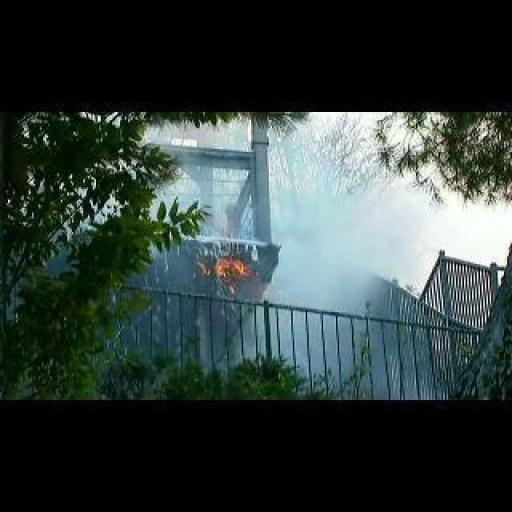smoke: (206, 252, 269, 278)
